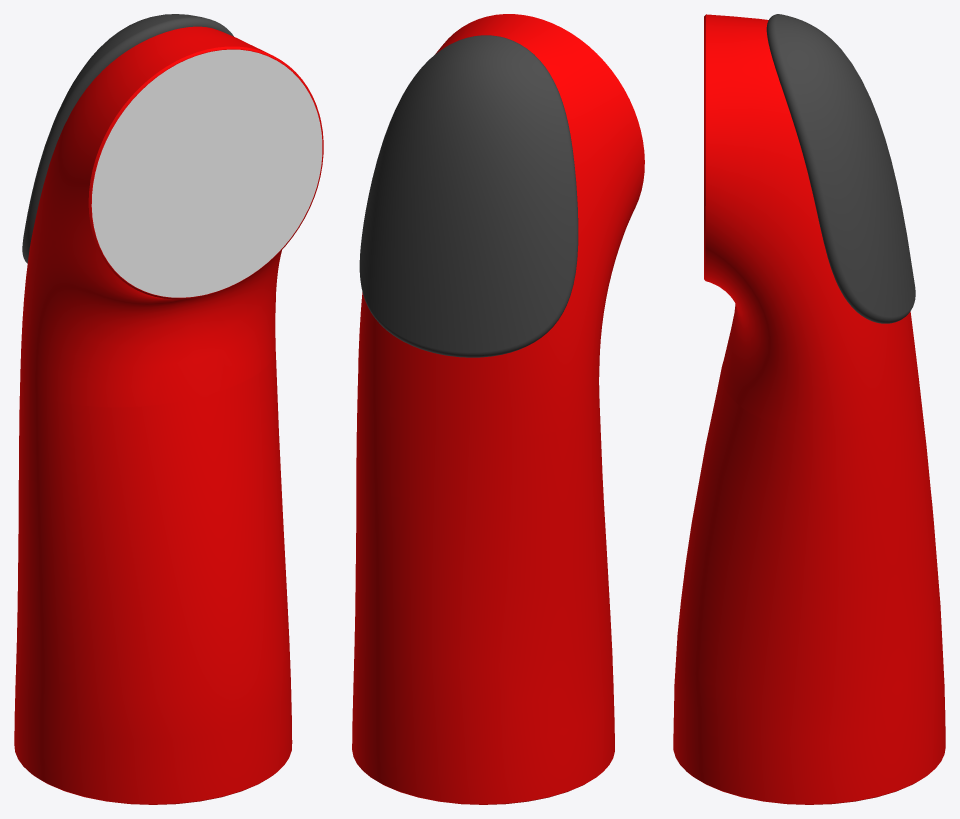
The picture shows the model from 3 angles, left to right: view 1: azimuth 30°, elevation 25°; view 2: azimuth 150°, elevation 25°; view 3: azimuth 270°, elevation 25°; orthographic projection. The views are drawn at different scales.
Parts seen in each view (by area): view 1: _3DGeom_29, _3DGeom_31, _3DGeom_30; view 2: _3DGeom_29, _3DGeom_30; view 3: _3DGeom_29, _3DGeom_30.
Boxes of the visible parts, x1,y1,x2,y2 form: _3DGeom_29: [14, 26, 323, 804]; _3DGeom_31: [91, 49, 322, 297]; _3DGeom_30: [22, 14, 233, 263]; _3DGeom_29: [352, 14, 644, 804]; _3DGeom_30: [359, 35, 578, 357]; _3DGeom_29: [673, 14, 945, 804]; _3DGeom_30: [766, 14, 915, 323].
Bounding box in the file's own units: 0.1065 × 0.1065 × 0.3125.
